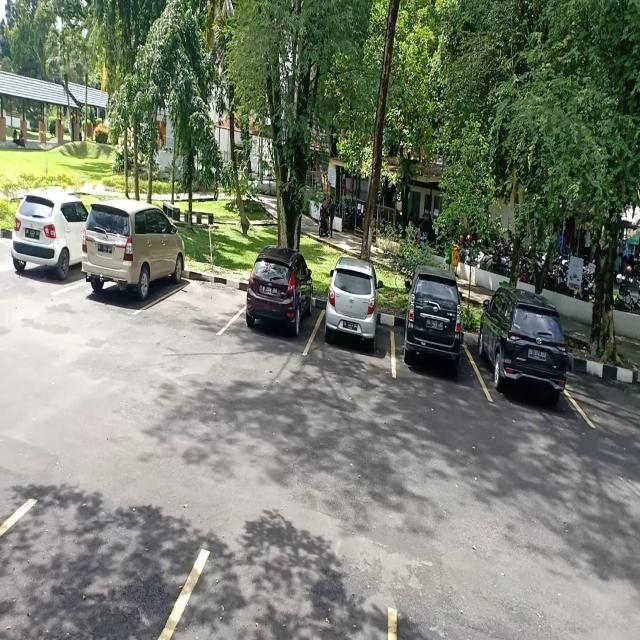empty: (0, 497, 204, 636), (164, 549, 396, 636), (164, 268, 246, 338)
occupied: (476, 311, 572, 409), (80, 224, 184, 313), (9, 201, 84, 293), (313, 280, 394, 364), (393, 302, 475, 382), (241, 276, 315, 343)
